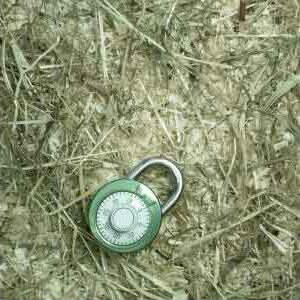lock: (86, 156, 185, 255)
